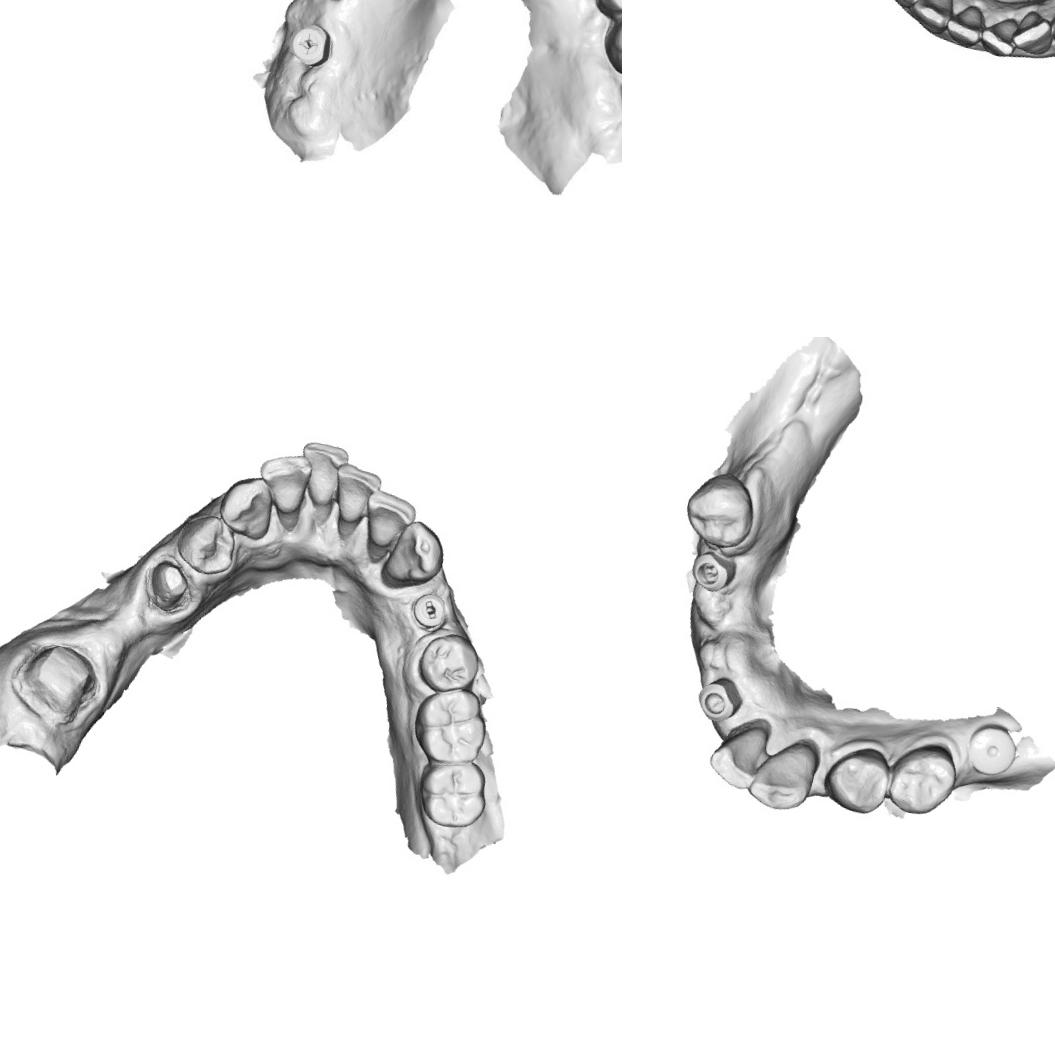canine: (744, 736, 822, 817), (378, 514, 450, 596), (212, 468, 280, 545)
crown: (10, 633, 106, 724), (142, 554, 196, 617)
implant: (962, 718, 1024, 782), (691, 670, 746, 727), (684, 548, 739, 598)
implant_minus: (408, 586, 452, 634)
implant_plus: (286, 18, 339, 72)
incisor: (701, 715, 774, 796), (290, 436, 352, 511), (250, 446, 314, 518), (358, 484, 420, 554), (328, 456, 385, 528), (1011, 10, 1055, 56), (949, 0, 990, 42), (980, 17, 1016, 54), (912, 0, 956, 27)
molar: (406, 678, 496, 771), (410, 752, 494, 836), (597, 0, 622, 87)
premolar: (676, 466, 762, 555), (883, 735, 961, 822), (820, 739, 899, 821), (412, 626, 488, 700), (171, 509, 244, 582)
